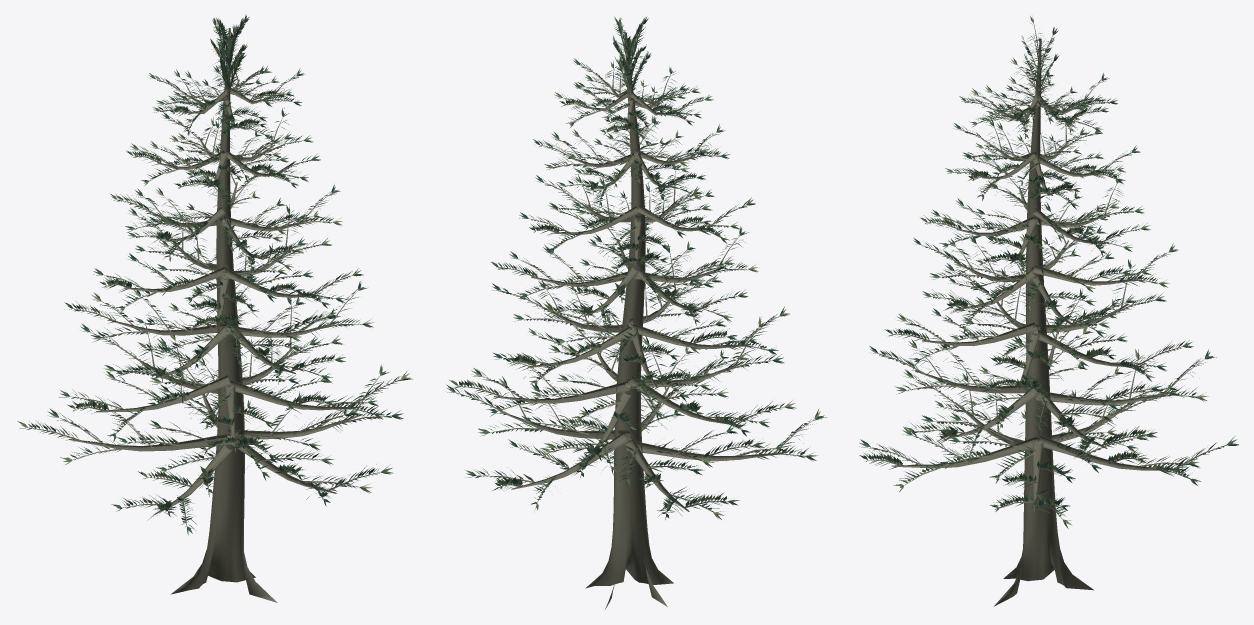
The picture shows the model from 3 angles, left to right: view 1: azimuth 30°, elevation 25°; view 2: azimuth 150°, elevation 25°; view 3: azimuth 270°, elevation 25°; orthographic projection.
Visible parts, largest first — view 1: leaves, branches; view 2: leaves, branches; view 3: leaves, branches.
Boxes of the visible parts, left/top/right/bottom form: leaves: left=17, top=14, right=412, bottom=535; branches: left=28, top=25, right=399, bottom=602; leaves: left=446, top=16, right=826, bottom=519; branches: left=456, top=32, right=813, bottom=609; leaves: left=859, top=16, right=1238, bottom=528; branches: left=868, top=24, right=1225, bottom=606.
Bounding box in the file's own units: 6.03 × 9.81 × 5.96.
